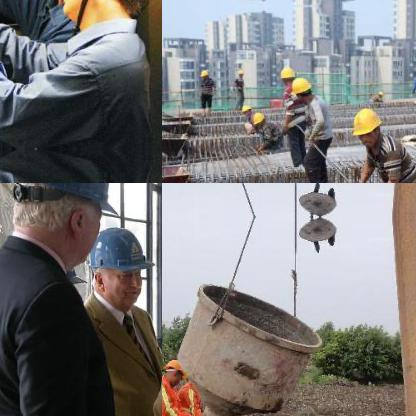Helmet: (0, 183, 124, 276), (82, 214, 152, 314), (57, 0, 157, 27), (349, 102, 383, 148), (162, 354, 188, 385), (291, 74, 311, 98), (279, 65, 295, 85), (251, 108, 265, 124), (196, 66, 208, 80), (240, 101, 250, 115), (235, 66, 243, 80)
